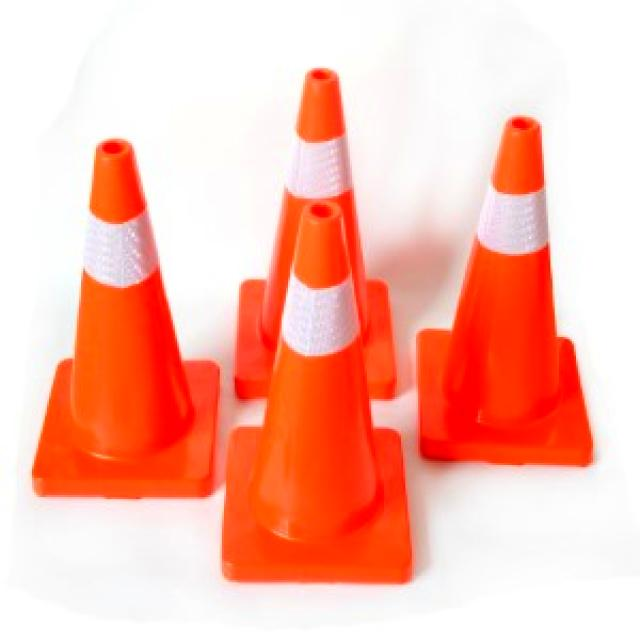cone: (220, 197, 407, 580), (30, 134, 215, 497), (416, 111, 593, 463), (230, 64, 395, 399)
